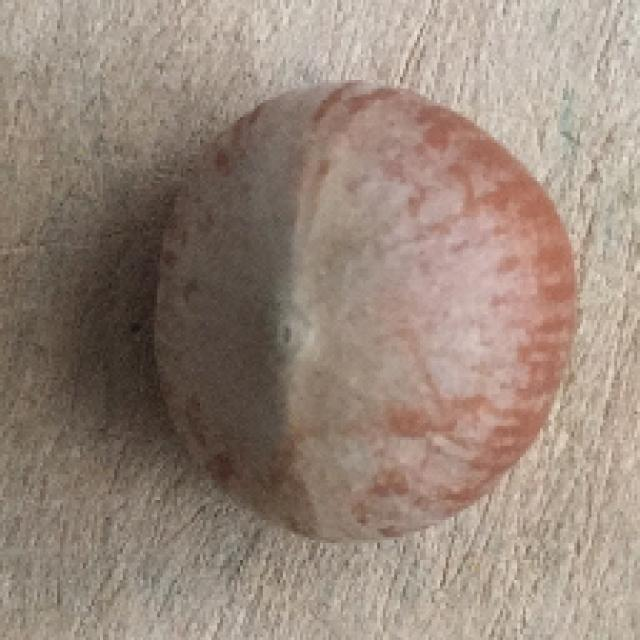qualityHazelnut: (145, 73, 586, 538)
